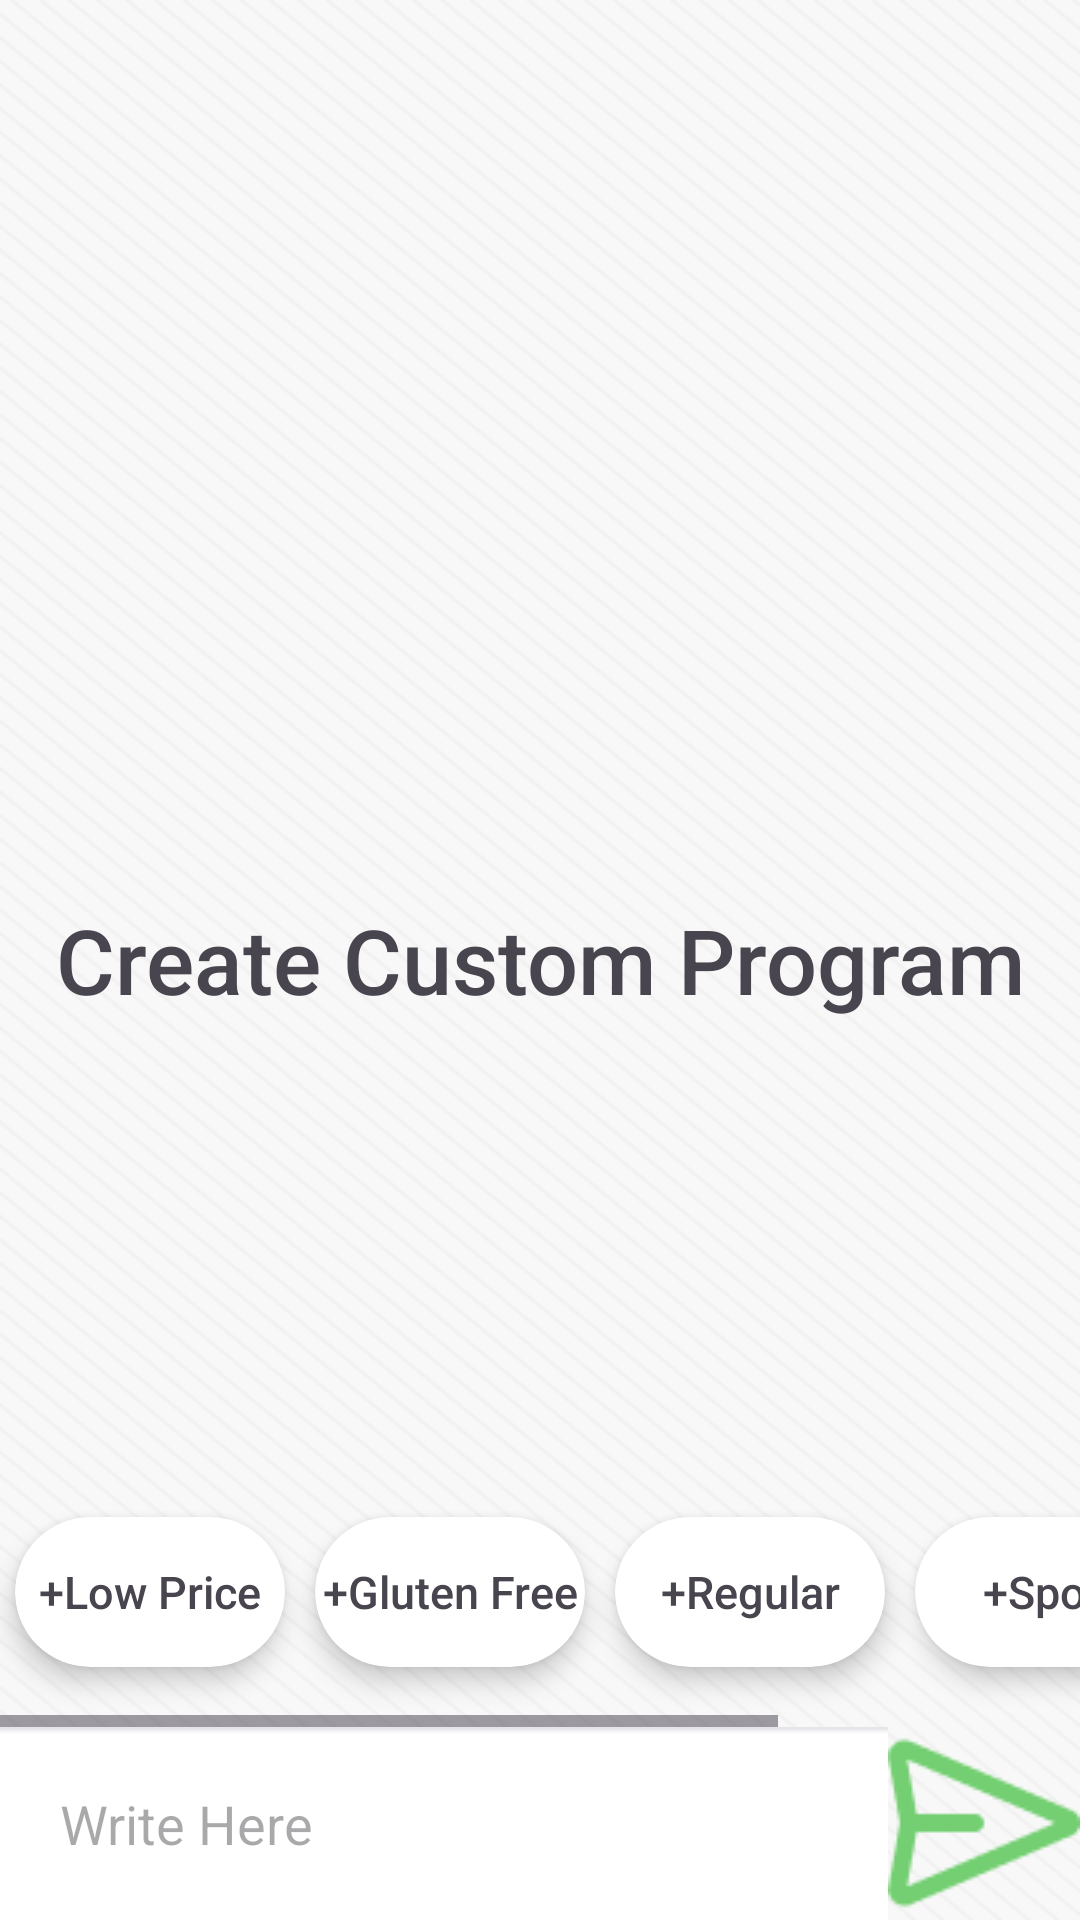

Where to tap for icons on this 1080*1920 app screen, as [x,y]:
send text: [984,1823]
